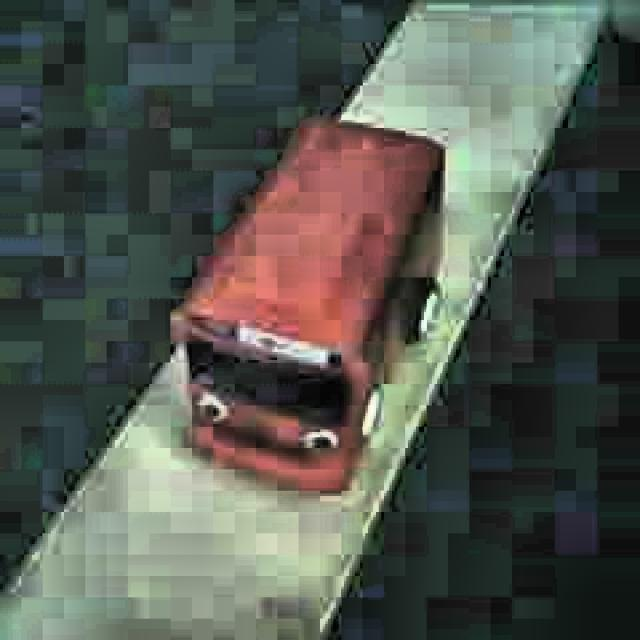bus: (170, 117, 445, 495)
